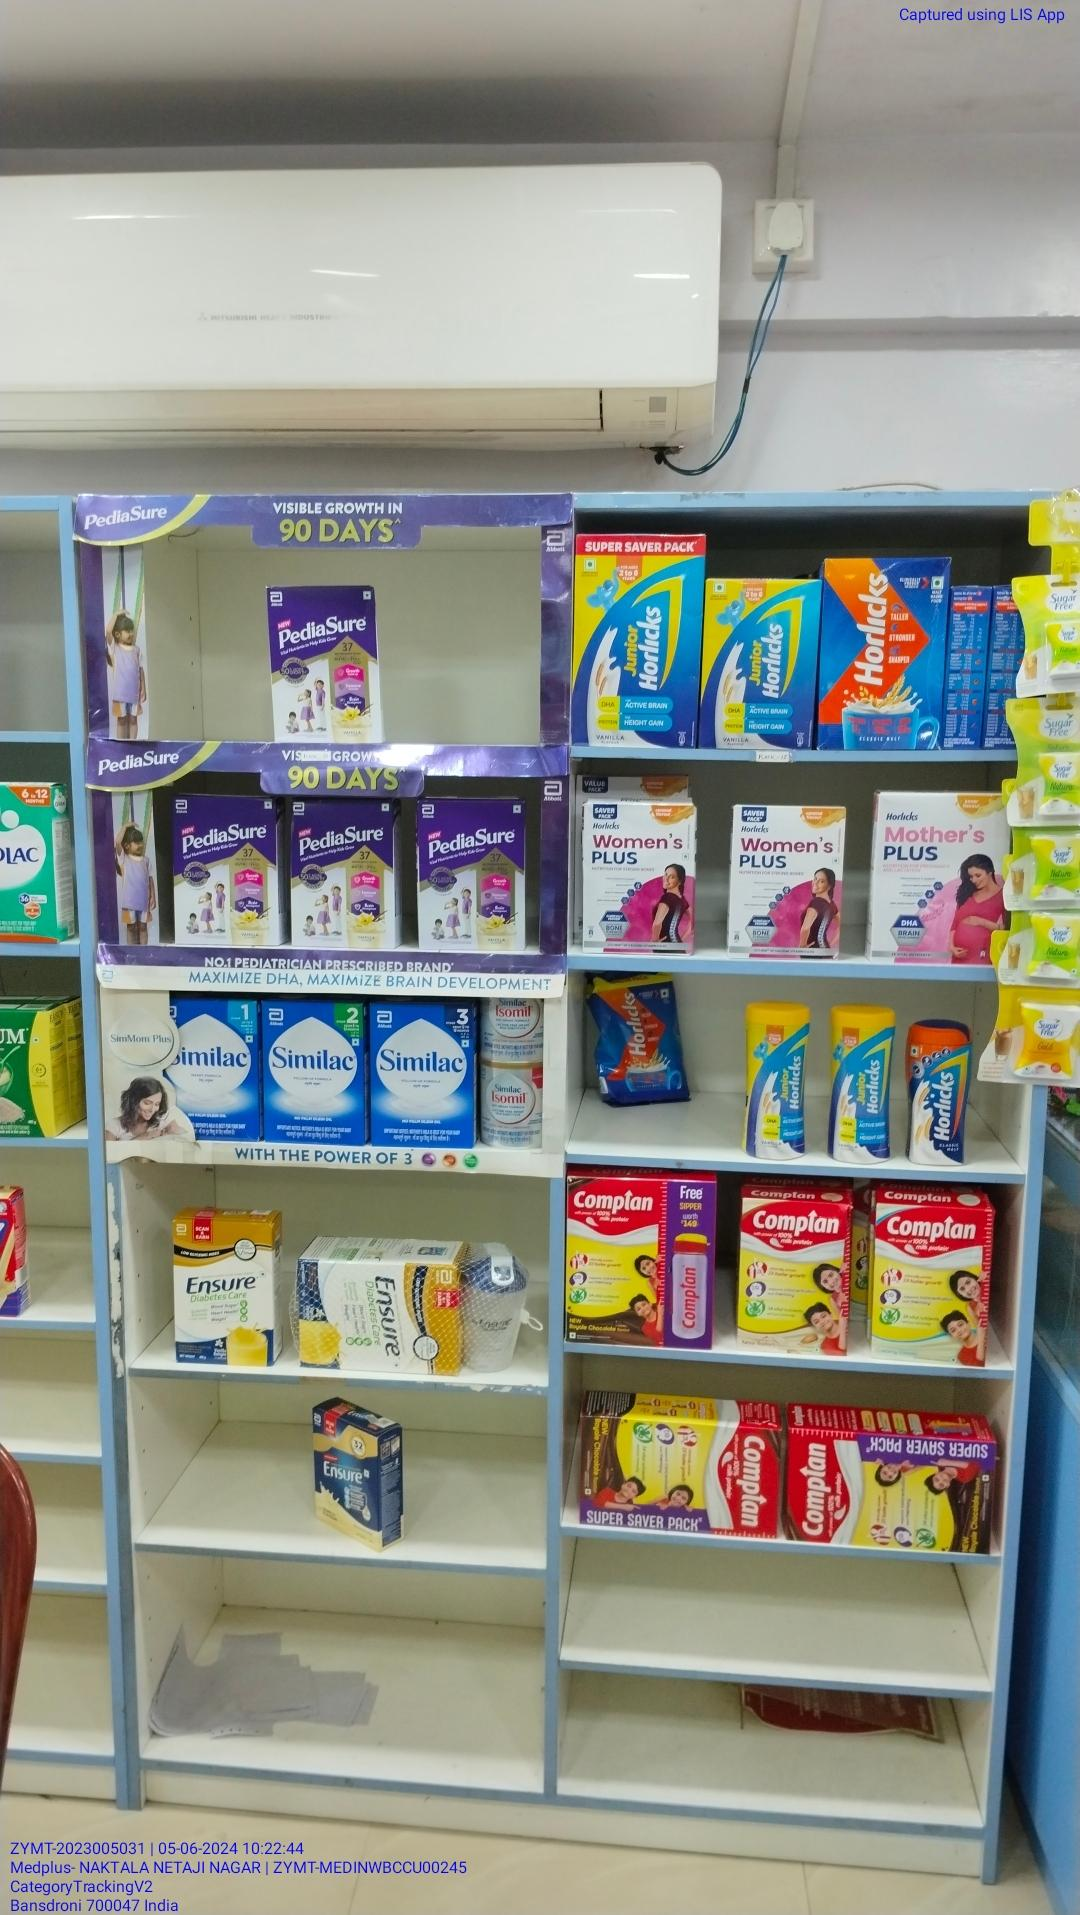COMPLAN_CHOCOLATE_500_GMS_PACK: (567, 1178, 713, 1347)
COMPLAN_CREAMY_CLASSIC_500_G_PACK: (873, 1202, 987, 1367)
COMPLAN_KESAR_BADAM_500_GMS_PACK: (739, 1200, 847, 1356)
HORLICKS_JUNIOR_VANILLA_500_GM_JAR: (826, 1005, 891, 1161), (743, 1004, 806, 1160)
HORLICK_CLASSIC_MALT_500_G_JAR: (905, 1019, 970, 1164)
HORLICK_CLASSIC_MALT_500_G_PACK: (822, 559, 945, 750)
PEDIASURE_VANILLA_500_G_PACK: (268, 588, 376, 742), (417, 797, 524, 951), (291, 796, 393, 950), (172, 796, 275, 946)
